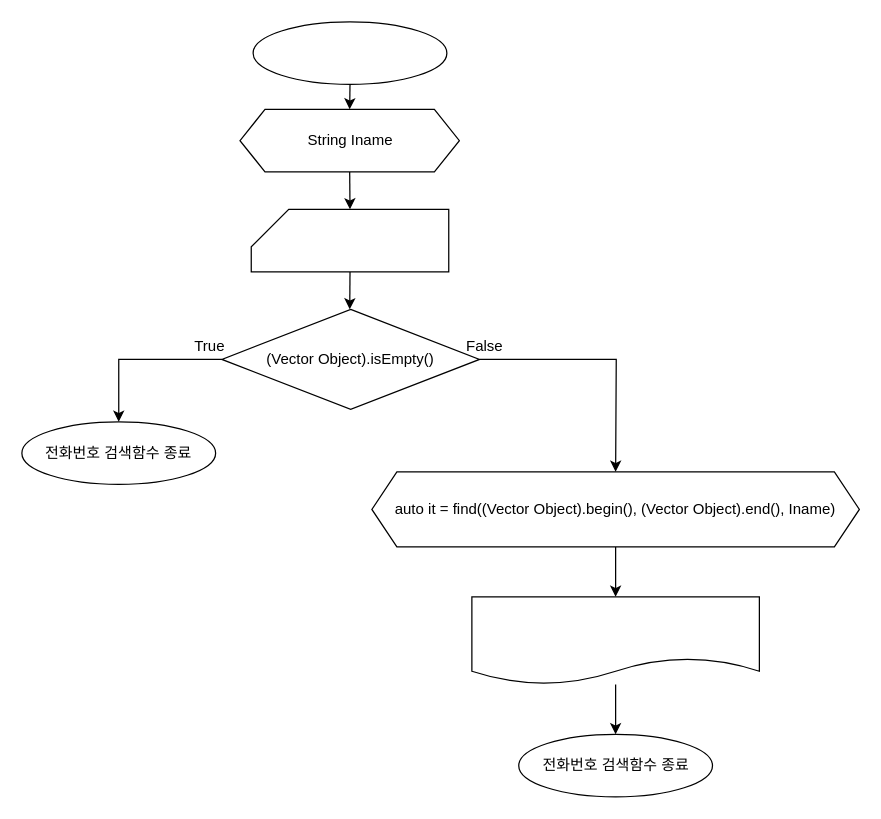
This 881x819 diagram has some shape labels left out. The box of each missing label's shape, as (x1, y1, x2, y2) in pixels:
(Vector Object).at(it-.begin()).name (Vector Object).at(it-.begin()).num: (471, 596, 759, 684)
Iname: (250, 208, 449, 272)
전화번호 검색함수 호출: (252, 21, 447, 84)
